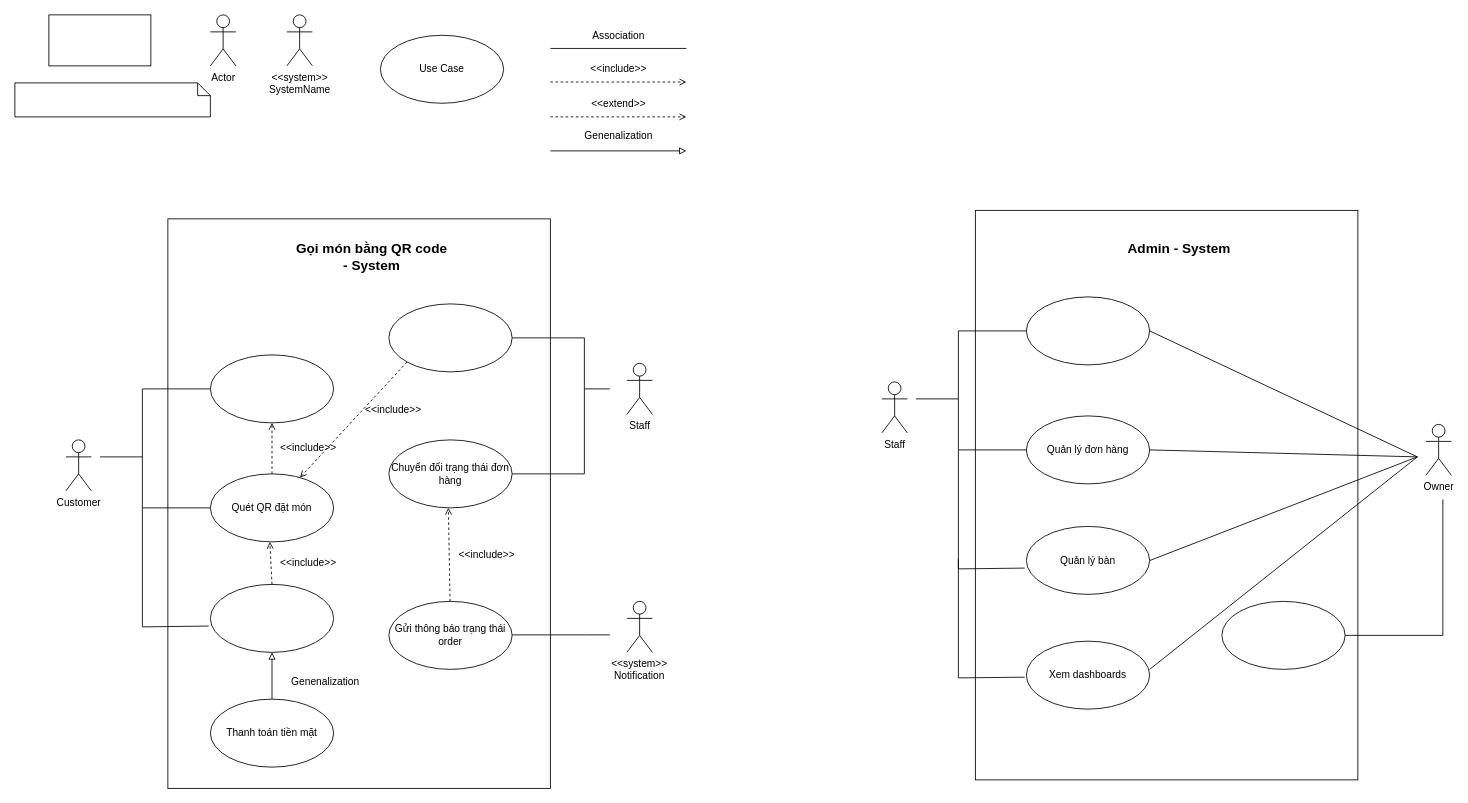
Some shapes in this 1468 by 803 pixel diagram are drawn without their labels. The centre of each missing label's shape, as x and y in pixels:
"Chuẩn bị món ăn" goes at point (450, 337).
"Condition: {boolean expression} extension point: p1, p2" goes at point (112, 99).
"Quản lý món ăn" goes at point (1088, 330).
"Quản lý nhân viên" goes at point (1283, 635).
"System" goes at point (99, 40).
"Thanh toán" goes at point (272, 618).
"Xem danh sách món" goes at point (272, 388).
